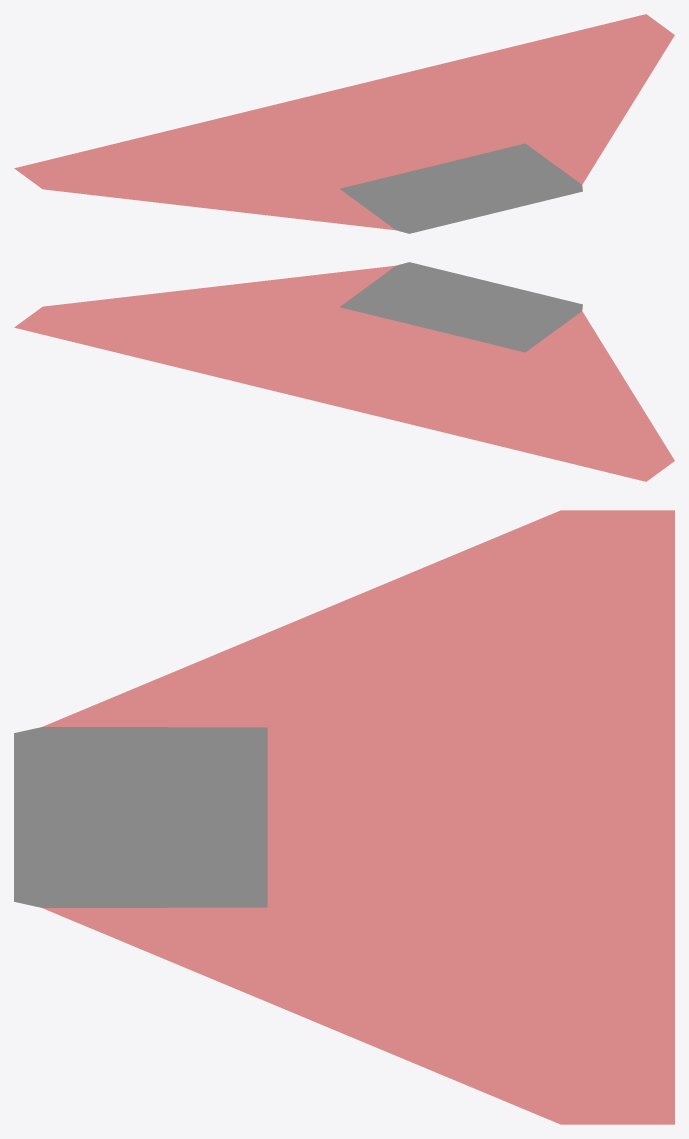
Rendered from SM_ENV_LKNVLD_Ground_Hill_HillTopGround.gltf.
3 renders of one model, top to bottom at view 1: azimuth 30°, elevation 25°; view 2: azimuth 150°, elevation 25°; view 3: azimuth 270°, elevation 25°, orthographic. The views are drawn at different scales.
Visible parts, largest first — view 1: SM_ENV_LKNVLD_Ground_Hill_HillTopGround; view 2: SM_ENV_LKNVLD_Ground_Hill_HillTopGround; view 3: SM_ENV_LKNVLD_Ground_Hill_HillTopGround.
Boxes of the visible parts, box(x1,y1,x2,y2) form: SM_ENV_LKNVLD_Ground_Hill_HillTopGround: box(14, 14, 674, 233); SM_ENV_LKNVLD_Ground_Hill_HillTopGround: box(14, 262, 674, 481); SM_ENV_LKNVLD_Ground_Hill_HillTopGround: box(14, 510, 674, 1124).
Size of the model in its own units: 48.97 by 0 by 22.27.
